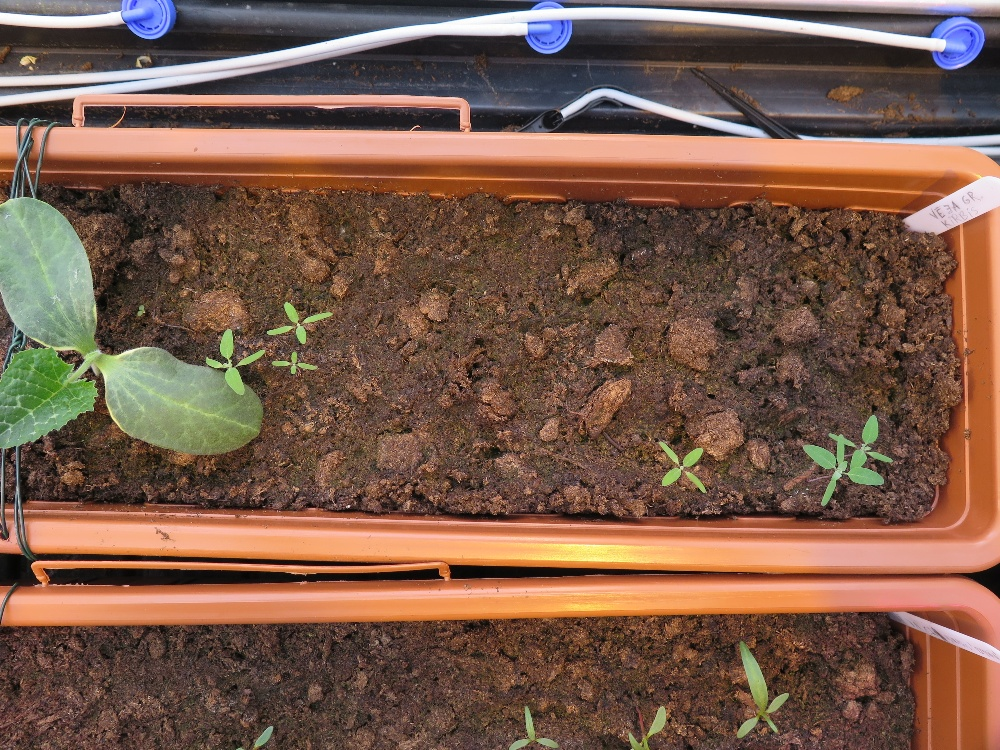crop: (1, 199, 268, 456)
weed: (809, 408, 898, 511), (184, 297, 266, 408), (732, 622, 798, 738), (641, 436, 727, 515), (271, 297, 341, 351), (264, 345, 346, 386), (625, 697, 677, 750), (512, 697, 564, 750), (234, 717, 289, 750)
